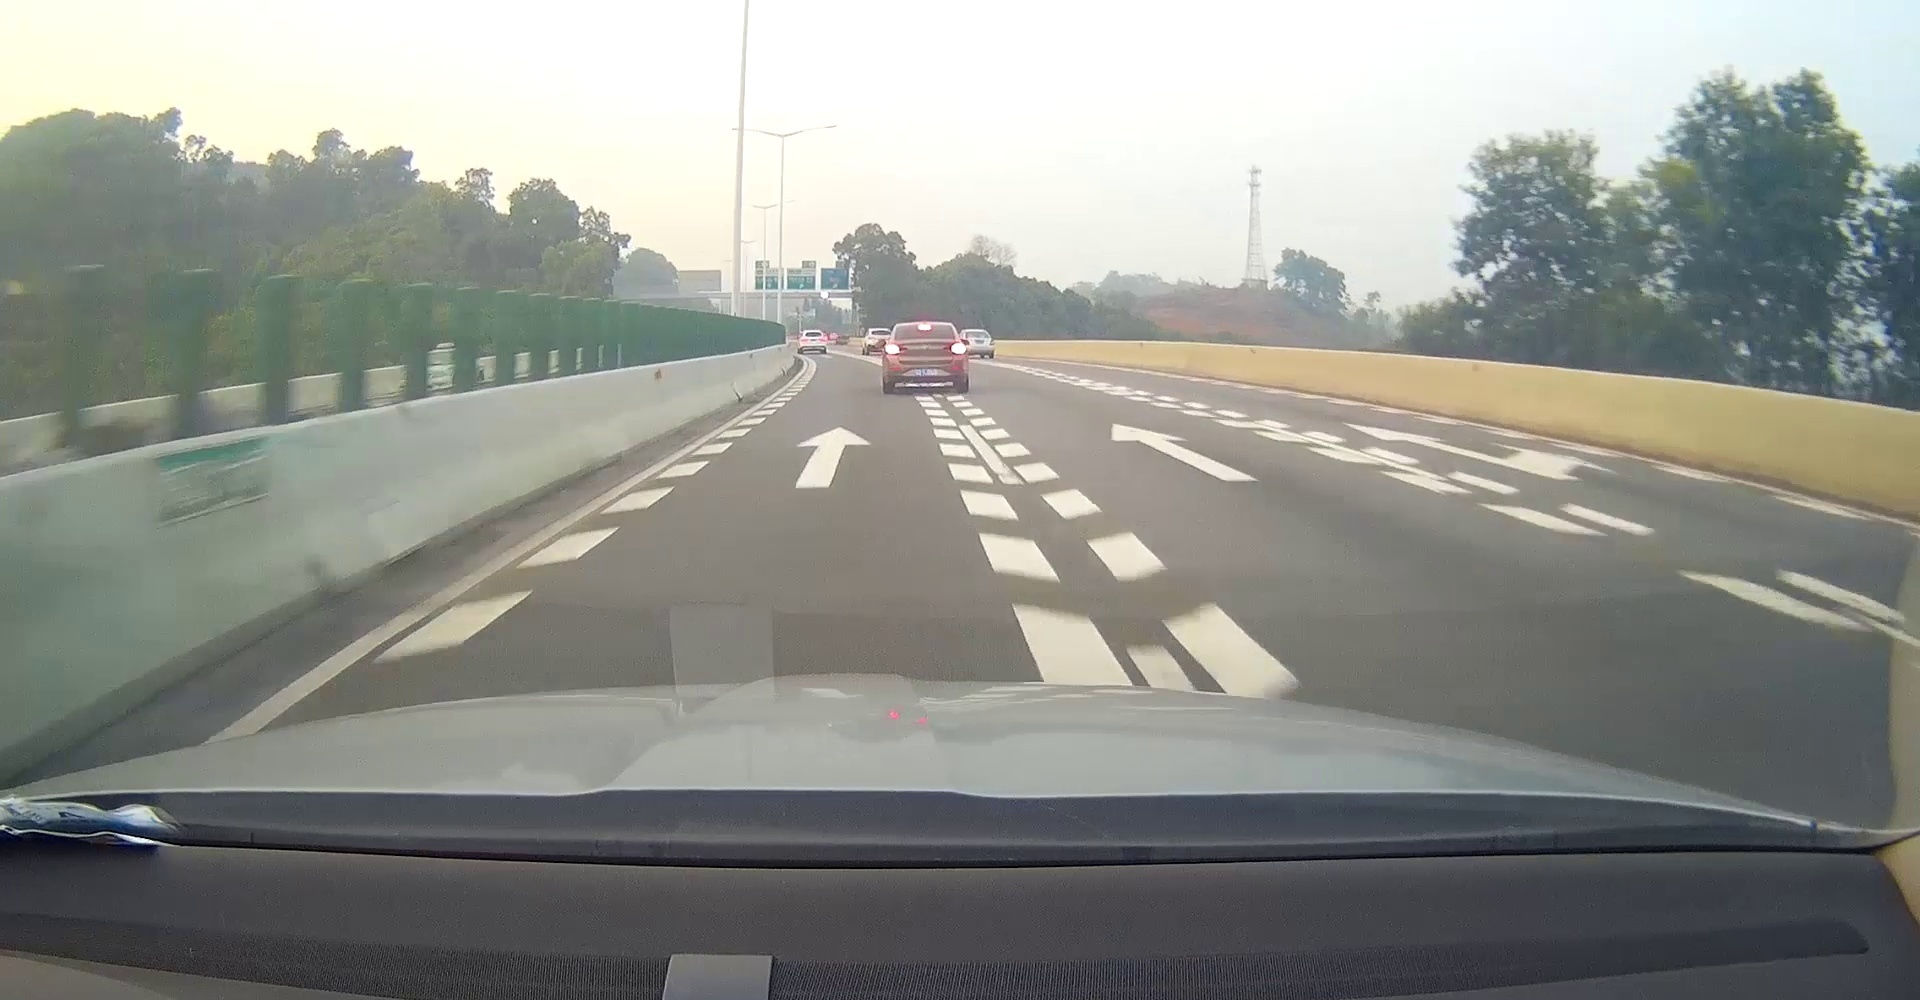L_light: (884, 345, 908, 354)
R_light: (943, 344, 965, 352)
T_light: (918, 325, 931, 329)
day-brake: (883, 321, 968, 393)
